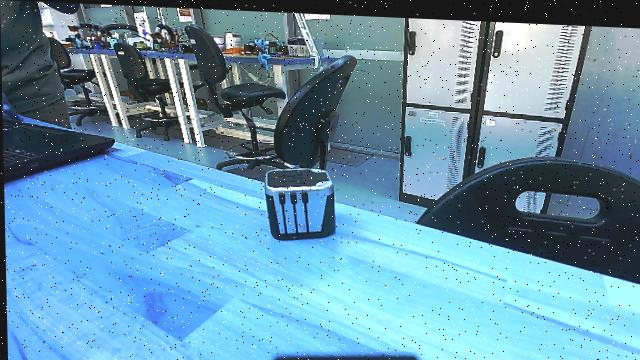adapter: (257, 161, 342, 242)
